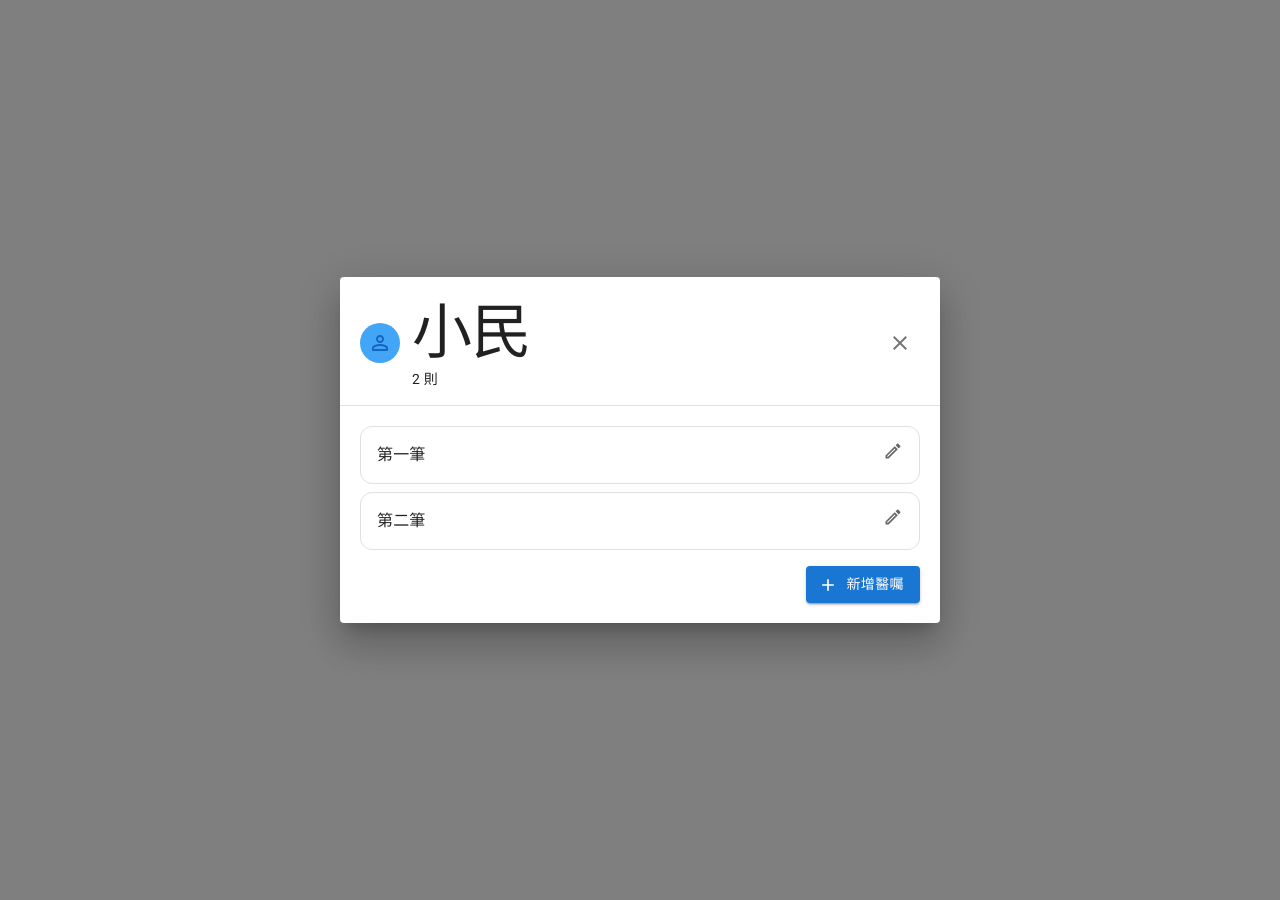
Scenario: OrderDialog 編輯醫囑 › 點醫囑後清單換成編輯畫面
The width and height of the screenshot is (1280, 900).
Click the button "第一筆". click: (401, 455)
box: [360,426,920,484]
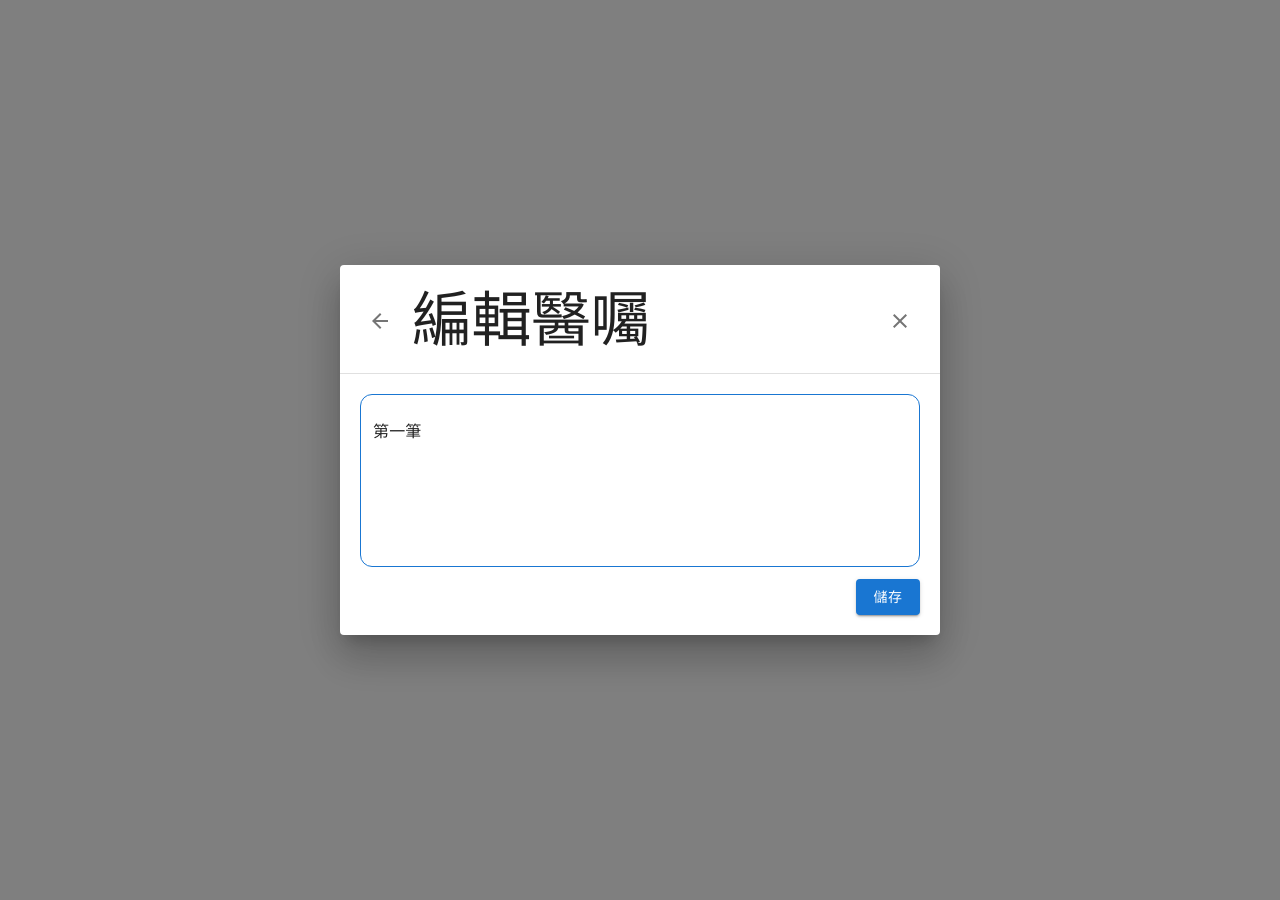
Check: the text box named "醫囑內容" holds "第一筆", box [373,420,907,558]
Check: the list is gone
